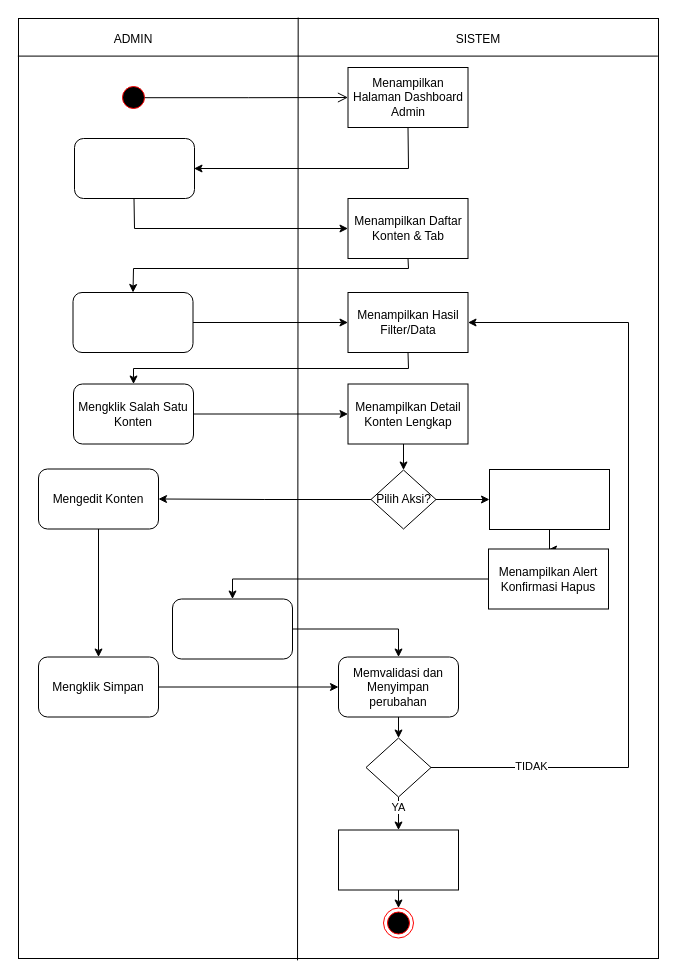
Image size: 676x979. Some labels were removed from this diagram. Each missing label, with the box of its shape:
Filter/Cari Konten: (72, 292, 193, 352)
Memilih menu Pertanyaan & Komentar: (74, 138, 194, 198)
Menampilkan Notifikasi Sukses: (338, 829, 458, 890)
Menghapus Konten: (488, 468, 610, 530)
Mengklik Tombol OK: (172, 598, 292, 659)
